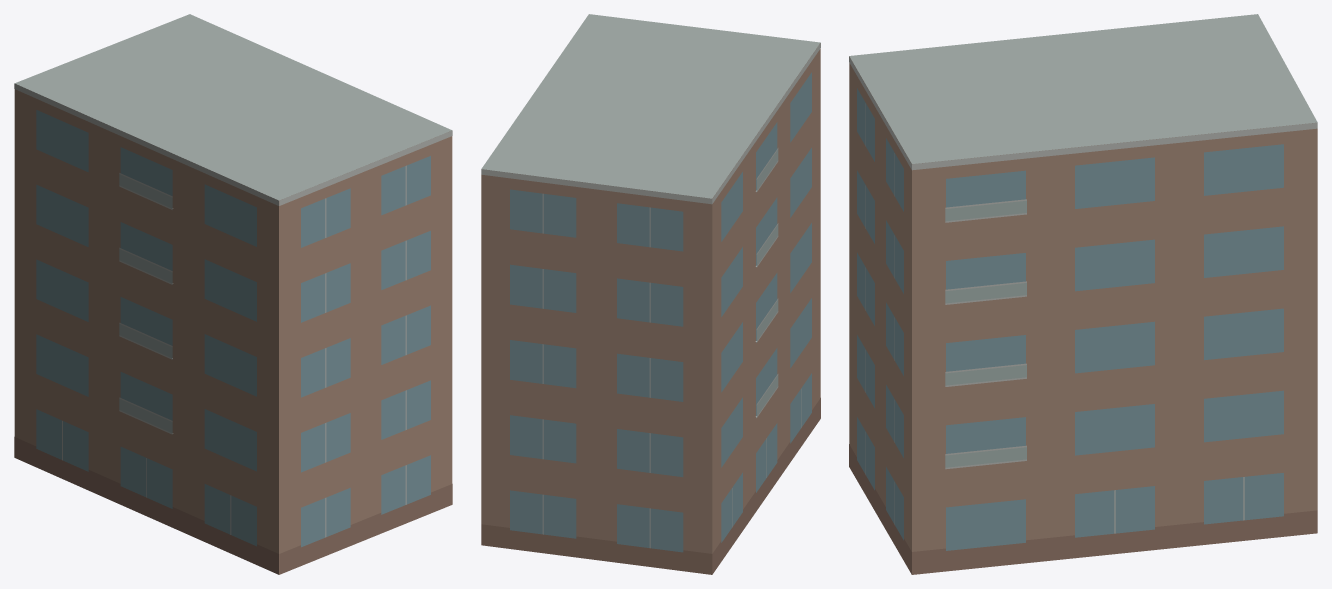
File: survey-upis-32683431.glb
3 views of the same model, side by side, from view 1: azimuth 30°, elevation 25°; view 2: azimuth 150°, elevation 25°; view 3: azimuth 270°, elevation 25° (orthographic). The views are drawn at different scales.
Parts seen in each view (by area): view 1: survey-upis-32683431.tmp; view 2: survey-upis-32683431.tmp; view 3: survey-upis-32683431.tmp.
Boxes of the visible parts, bbox=[...] form: survey-upis-32683431.tmp: bbox=[14, 14, 452, 574]; survey-upis-32683431.tmp: bbox=[481, 14, 820, 574]; survey-upis-32683431.tmp: bbox=[849, 14, 1317, 574].
Bounding box in the file's own units: 12.87 × 16.4 × 16.97.
